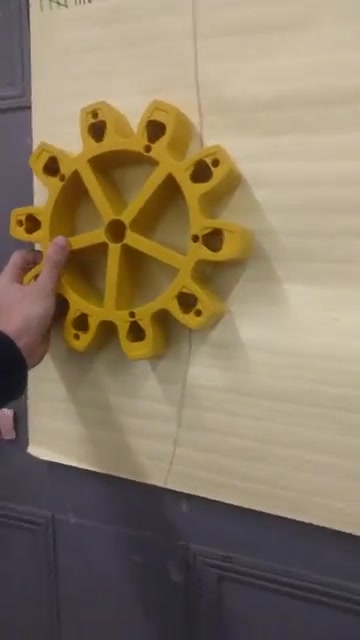gear: (12, 89, 251, 365)
